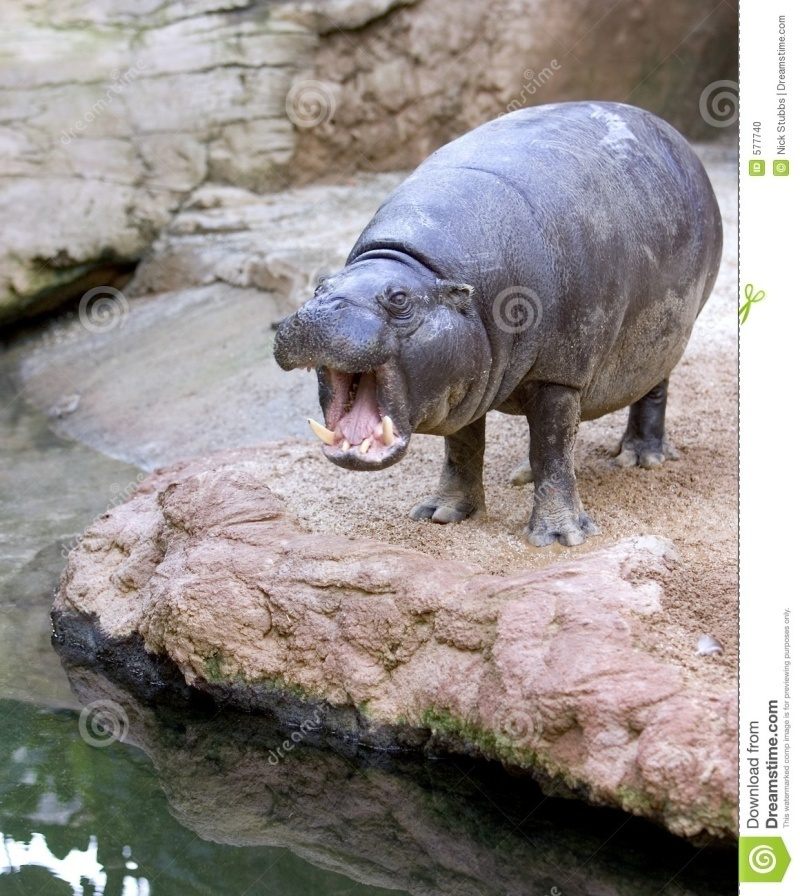hipopotamo: (245, 102, 724, 555)
